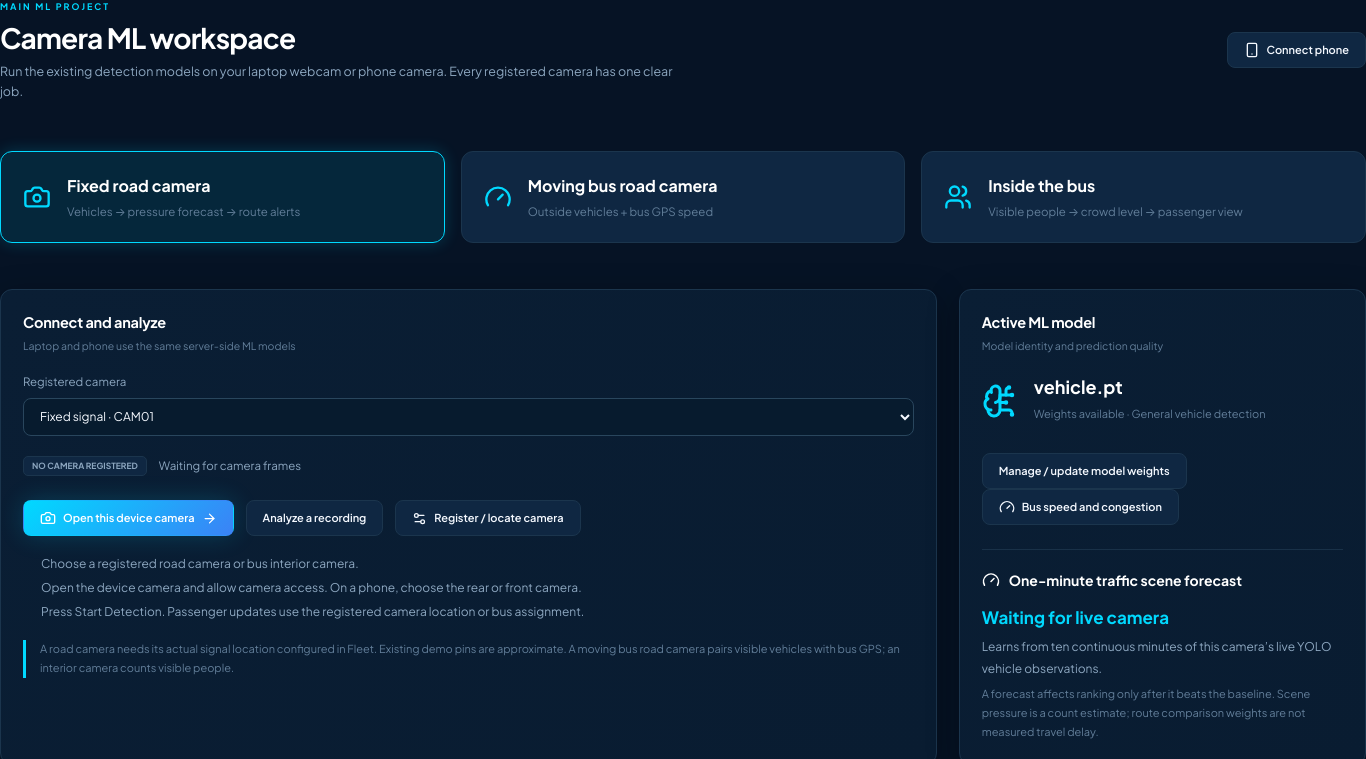
Scenario: Usability and recovery › moving bus mode keeps the vehicle model and explains GPS setup
Expected: the text "vehicle.pt" is shown, [1034,375,1123,398]
Click the button "Moving bus road camera Outside vehicles + bus GPS speed": (683, 197) [461,150,905,243]
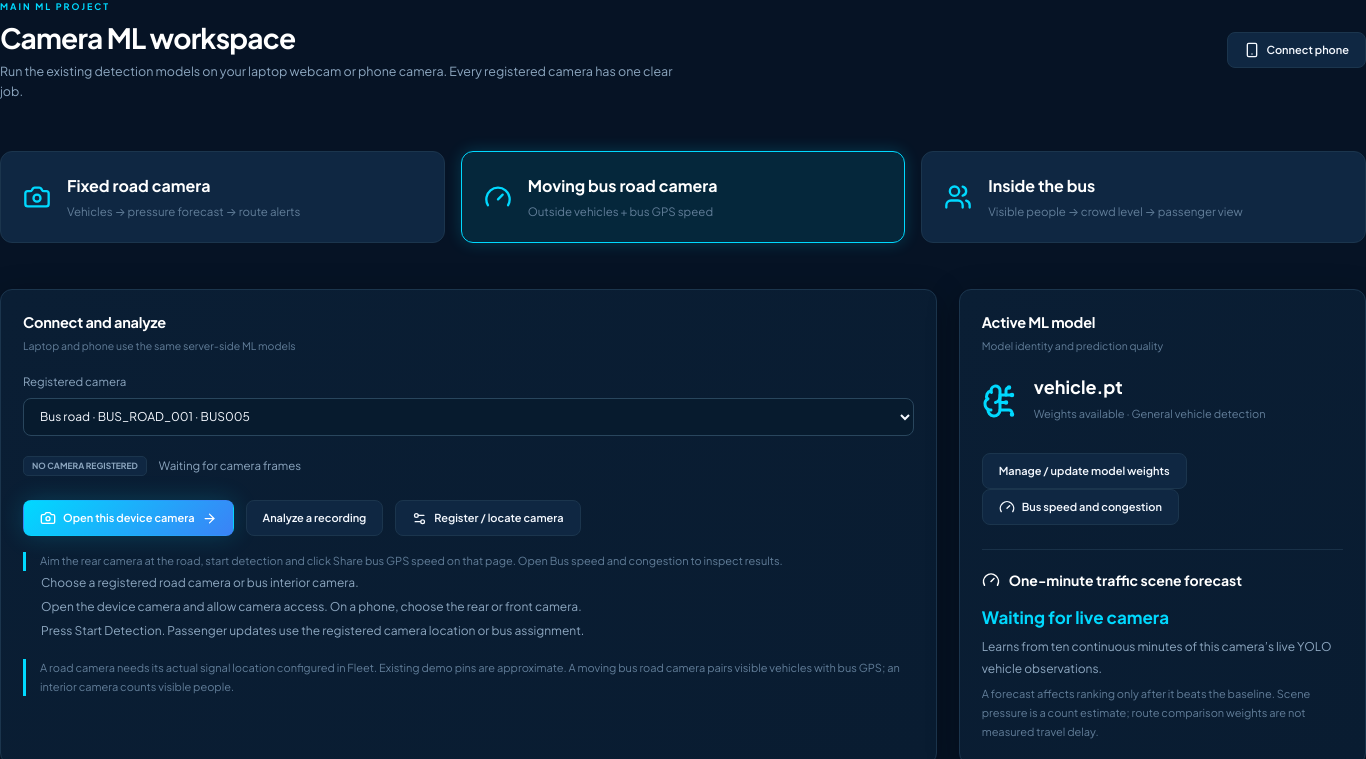
Result: the text "click Share bus GPS speed" is shown at [40,554,783,567]
Click the button "Inside the bus Visible people → crowd level → passenger view": (1042, 185) [921,150,1365,243]
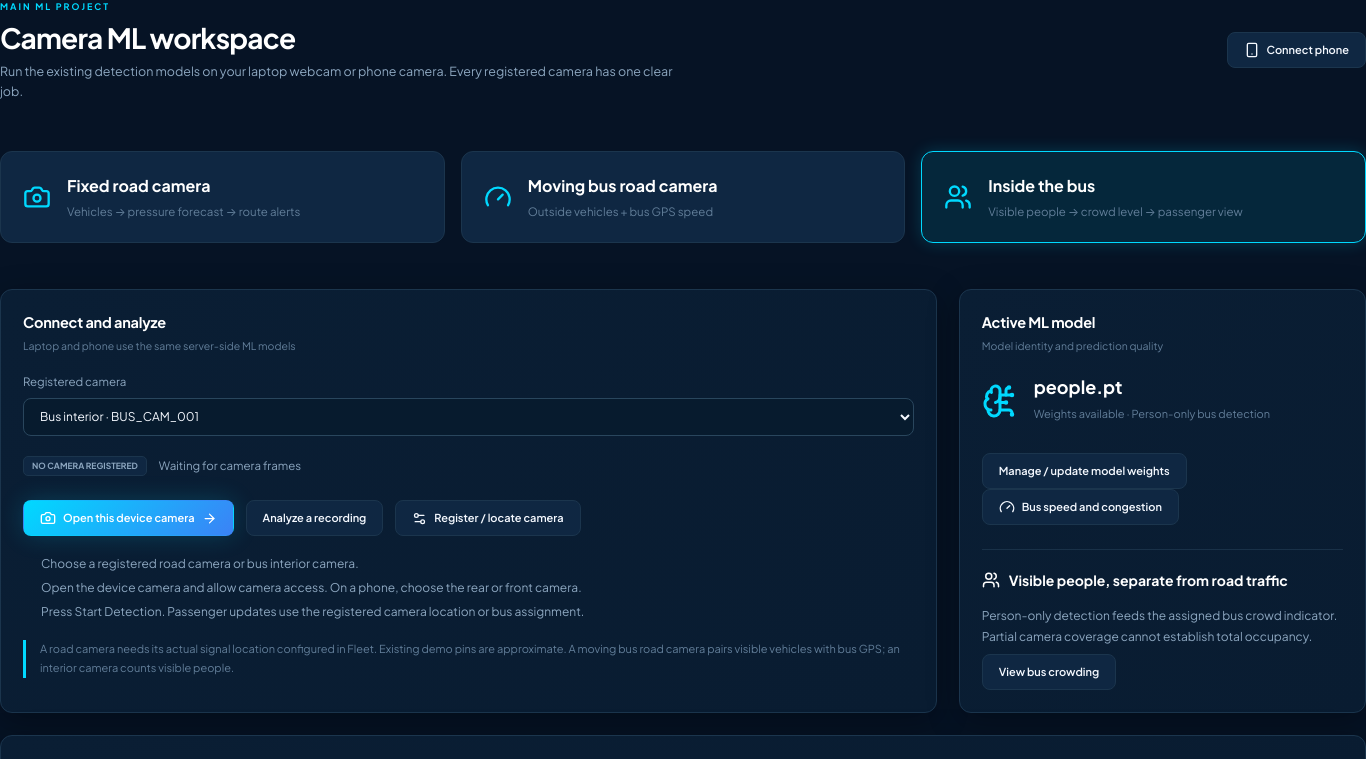
Result: the text "people.pt" is shown at [1034,375,1122,398]
